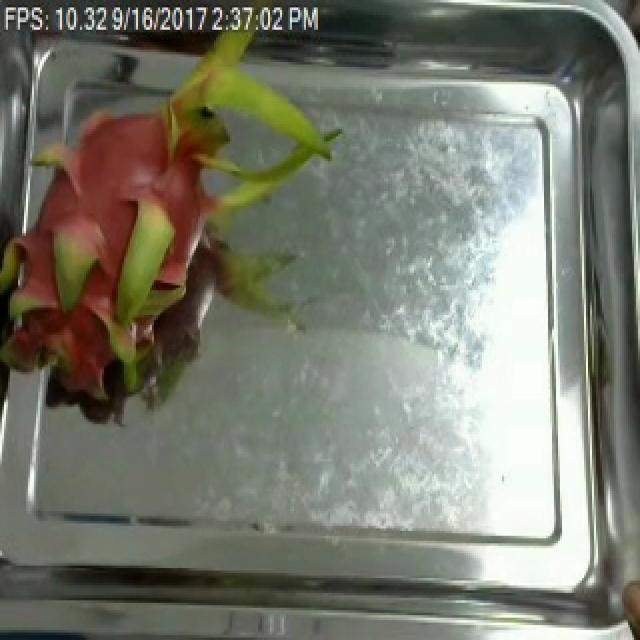fruit: (0, 15, 360, 441)
